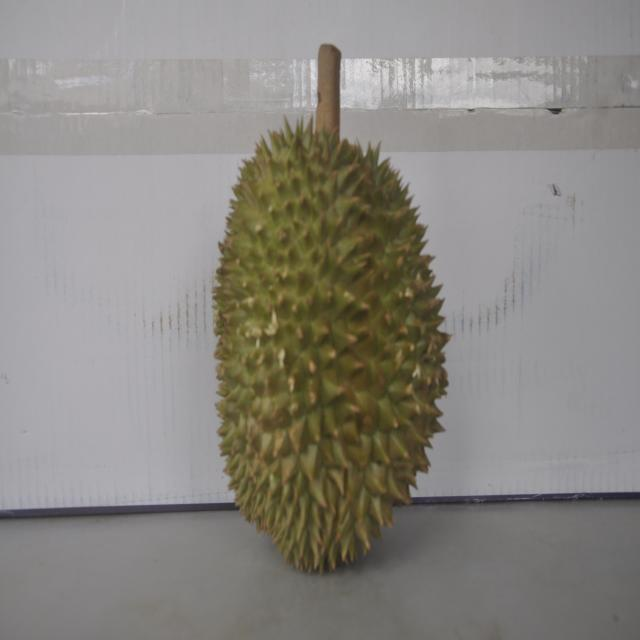mature: (208, 110, 446, 572)
